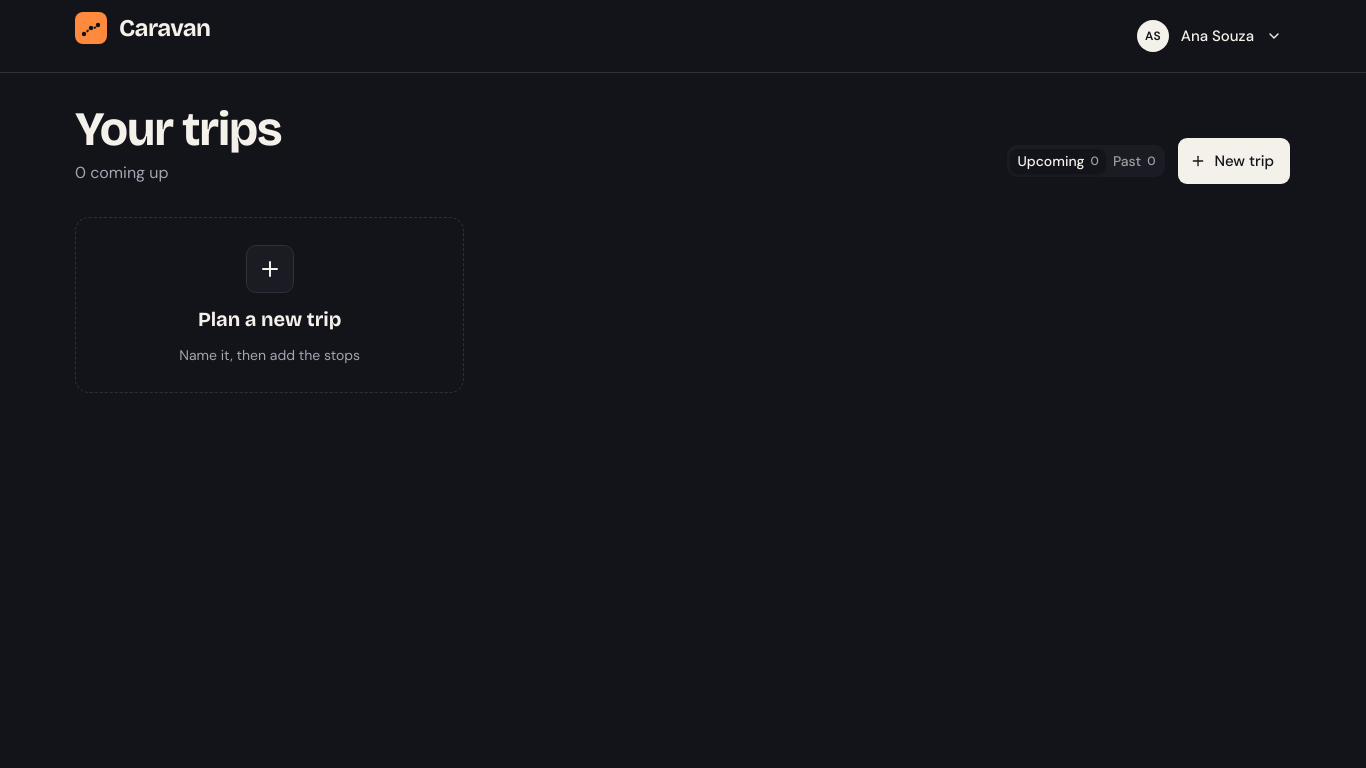
the new trip dialog › closes on Cancel and gives the focus back
Expected: the tab "Upcoming 0" is shown, [1010,148,1106,174]
Click the button "New trip".
click(1234, 161)  # box [1177,137,1291,185]
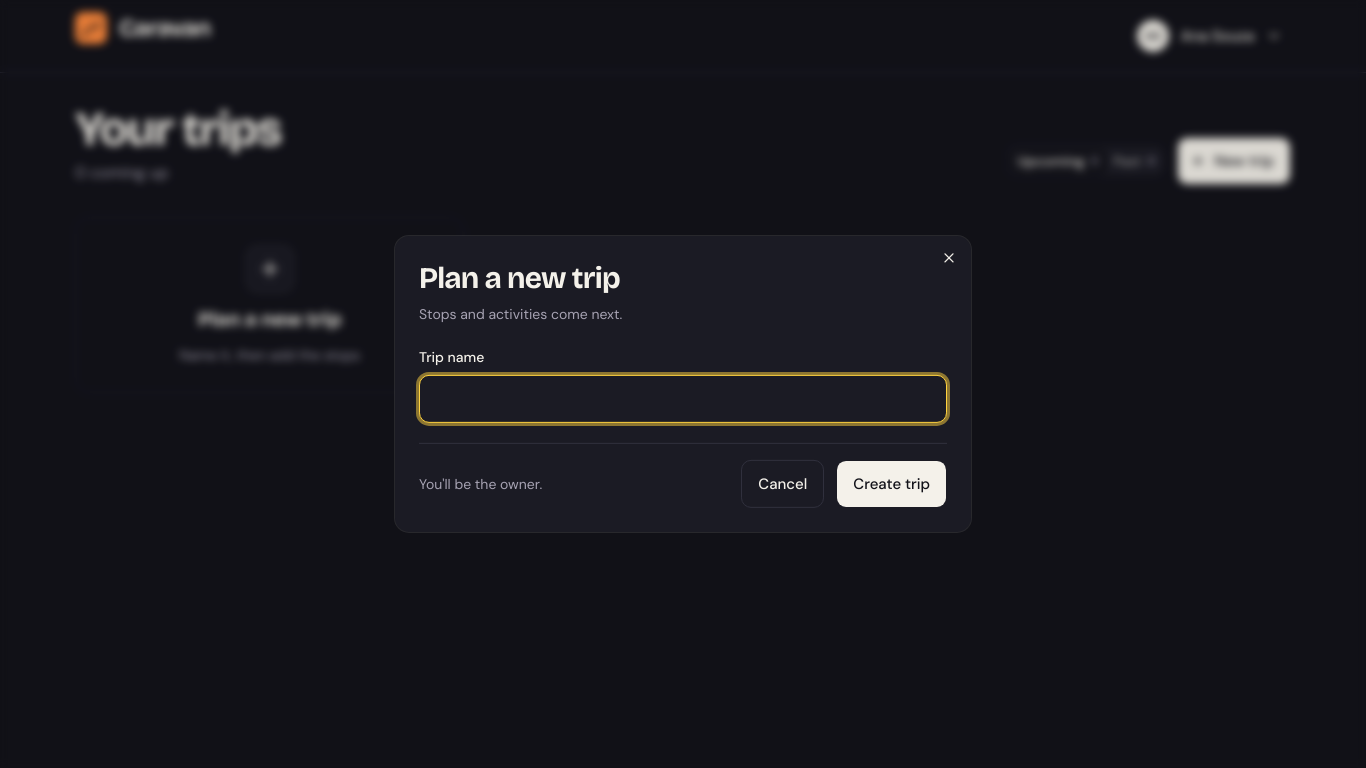
Click the button "Cancel".
click(783, 484)  # box [741,460,824,508]
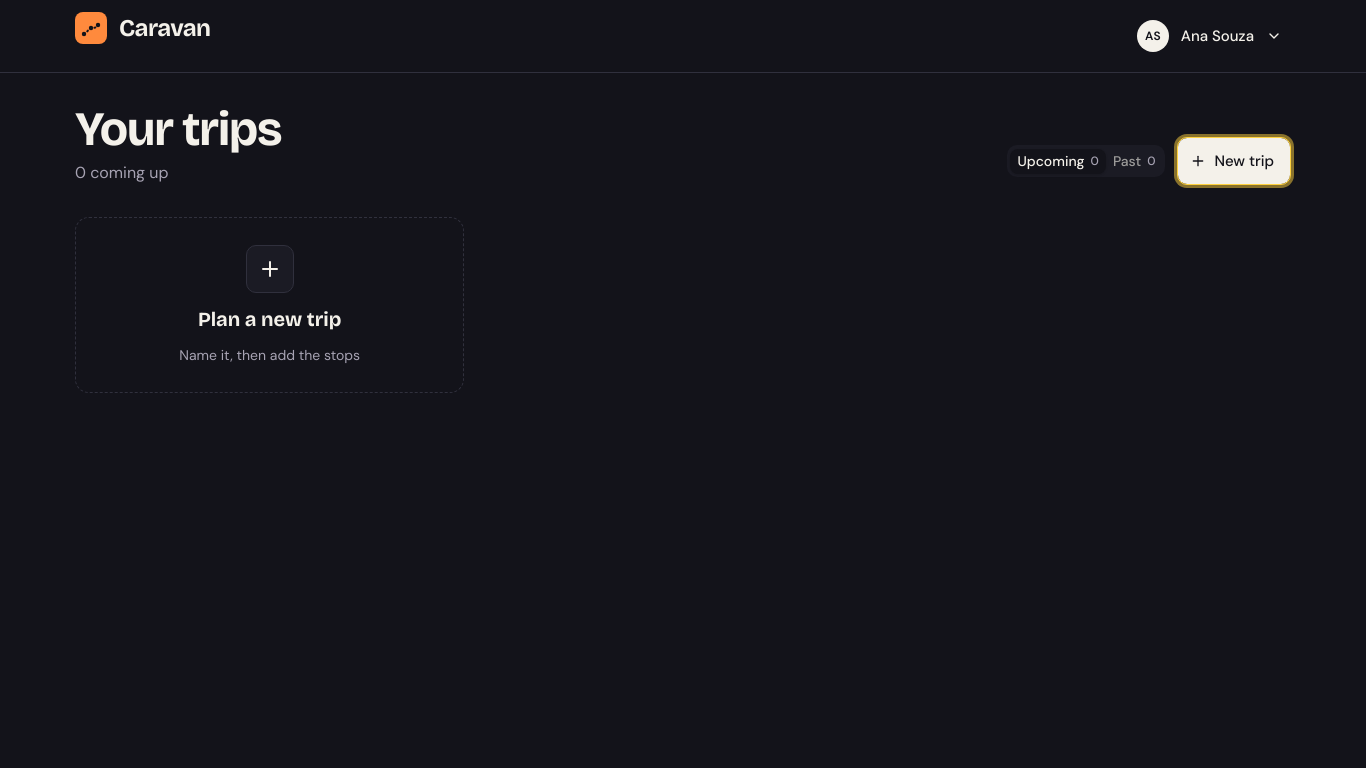
Now the dialog is gone
